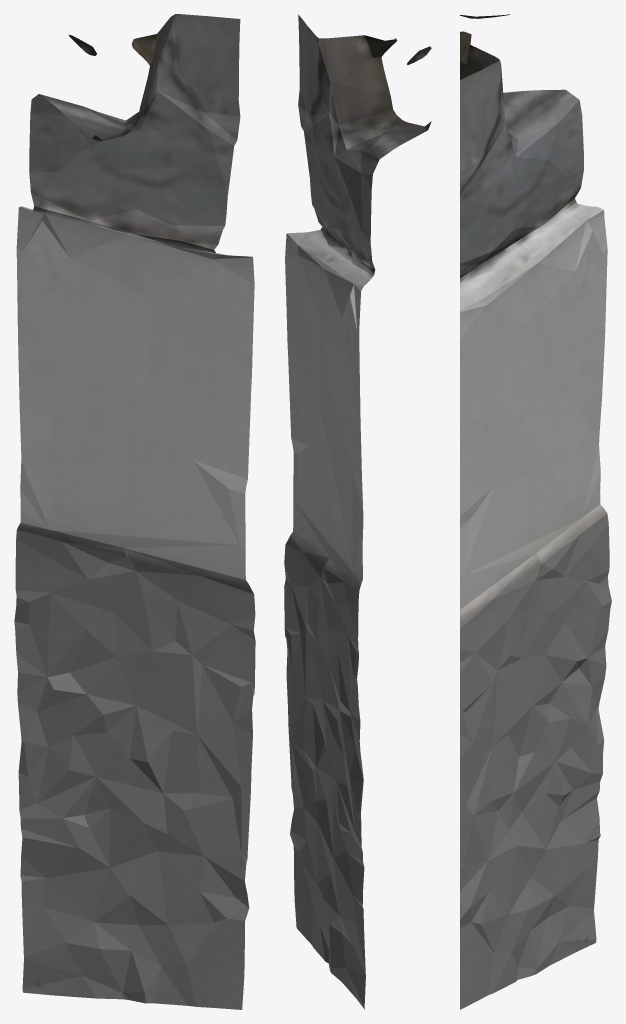
3 renders of one model, left to right at view 1: azimuth 30°, elevation 25°; view 2: azimuth 150°, elevation 25°; view 3: azimuth 270°, elevation 25°, orthographic. The views are drawn at different scales.
Bounding box in the file's own units: 0.2831 × 1.67 × 0.2482.
Materials: 1 (1 with a texture image).
